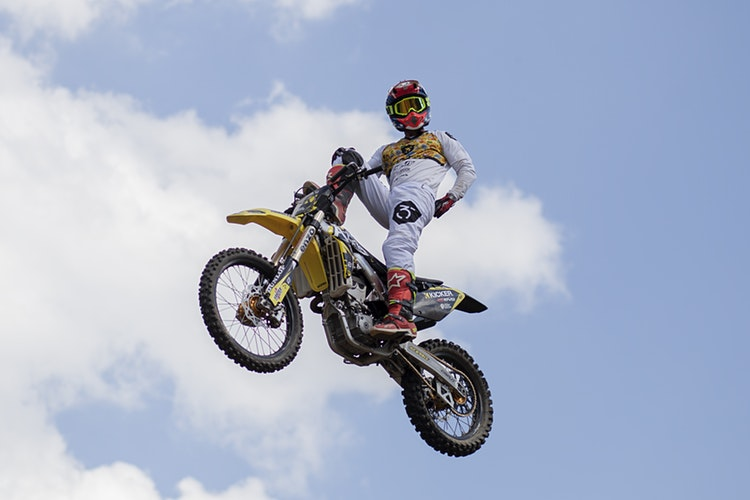helmet: (381, 69, 427, 136)
